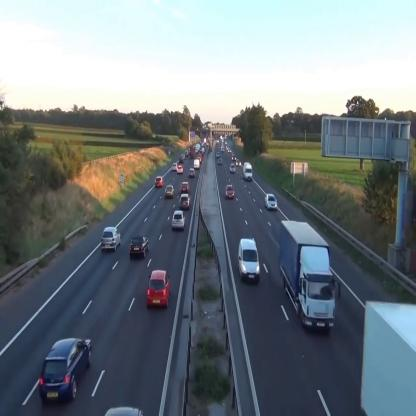car: (39, 338, 92, 402), (147, 269, 171, 308), (100, 226, 122, 250), (129, 235, 150, 257), (172, 210, 186, 230), (264, 193, 278, 210), (179, 194, 191, 210), (164, 185, 174, 197), (154, 176, 164, 188), (226, 185, 235, 198), (180, 182, 190, 193), (177, 165, 183, 173), (189, 168, 194, 177), (230, 163, 235, 172), (194, 160, 199, 168), (172, 163, 177, 170), (218, 156, 222, 164)
lorry: (280, 218, 336, 334), (238, 239, 260, 283), (243, 162, 253, 181)
